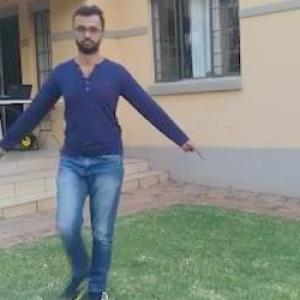land: (23, 30, 191, 276)
